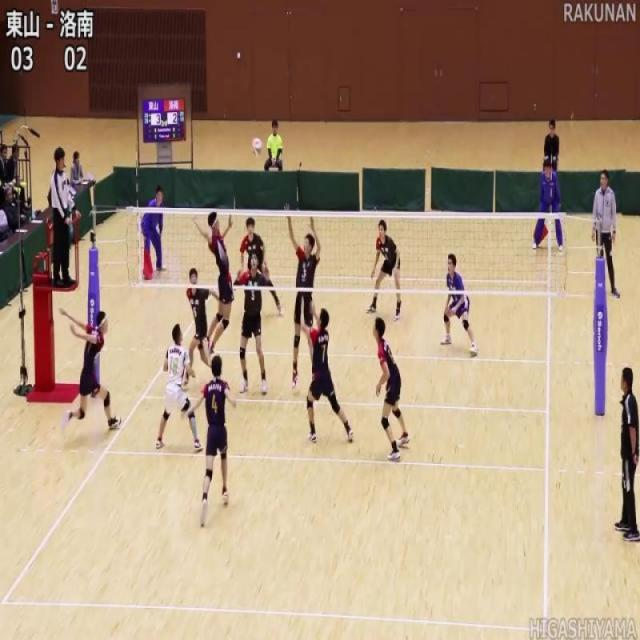volleyball: (250, 136, 264, 158)
